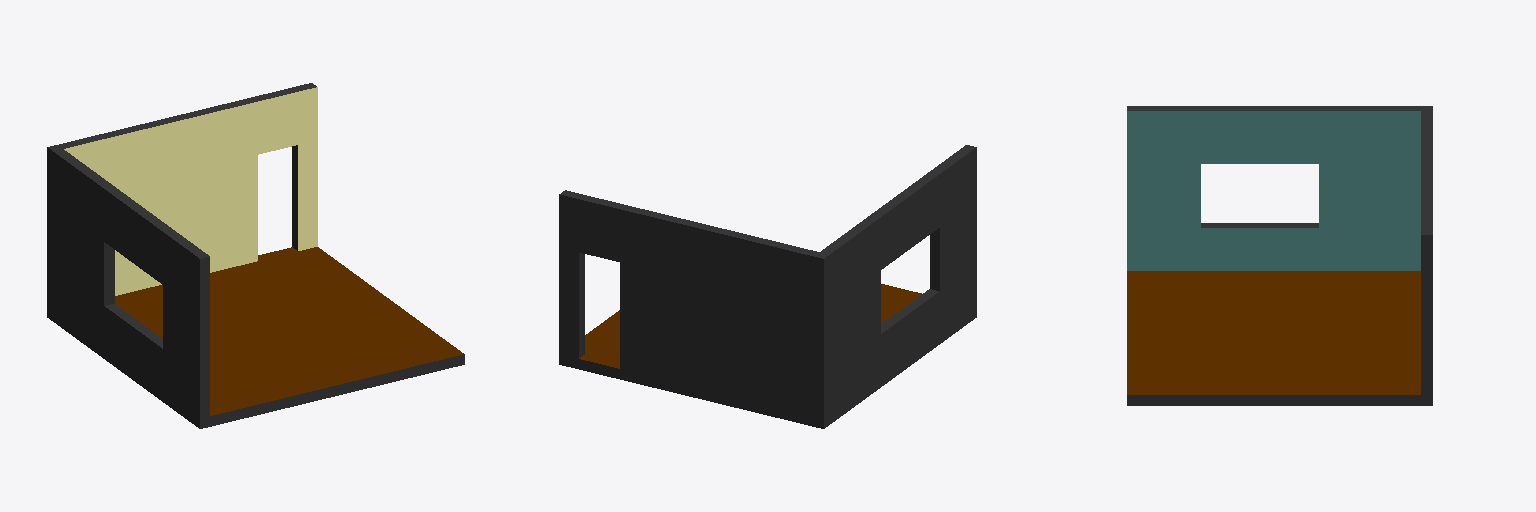
The picture shows the model from 3 angles: view 1: azimuth 30°, elevation 25°; view 2: azimuth 150°, elevation 25°; view 3: azimuth 270°, elevation 25°; orthographic projection.
Visible parts, largest first — view 1: room; view 2: room; view 3: room.
Boxes of the visible parts, <box> form: room: <box>47,83,464,428</box>; room: <box>559,145,976,428</box>; room: <box>1127,106,1432,405</box>.
Size of the model in its own units: 520 by 320 by 520.
Materials: 1 (1 with a texture image).